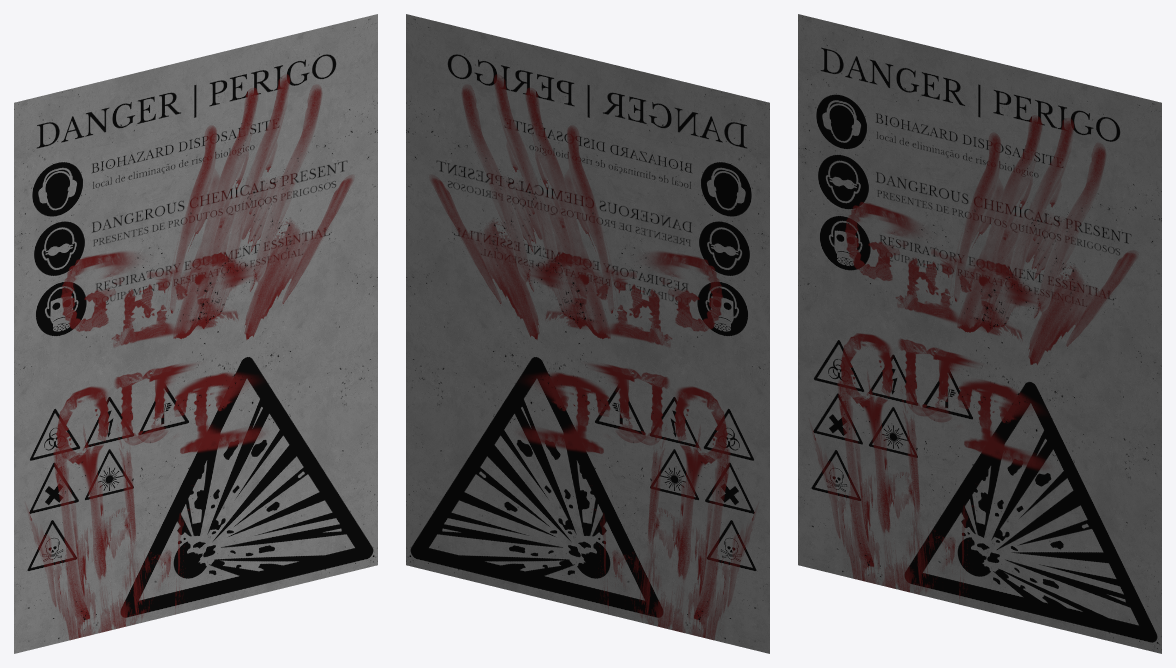
The model's file is danger_sign.glb.
3 renders of one model, left to right at view 1: azimuth 30°, elevation 25°; view 2: azimuth 150°, elevation 25°; view 3: azimuth 330°, elevation 25°, orthographic.
Visible parts, largest first — view 1: poster; view 2: poster; view 3: poster.
Part boxes in pixels (left/top/right/bottom): poster: left=14, top=14, right=377, bottom=653; poster: left=406, top=14, right=769, bottom=653; poster: left=798, top=14, right=1161, bottom=653.
Bounding box in the file's own units: 8.28 × 11.99 × 5.33e-15.
1 material, 1 textured.
